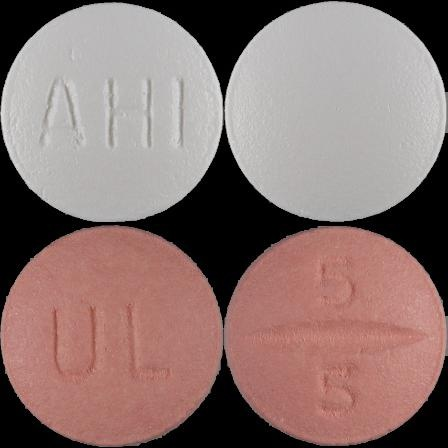68788-6774: (0, 0, 224, 224)
